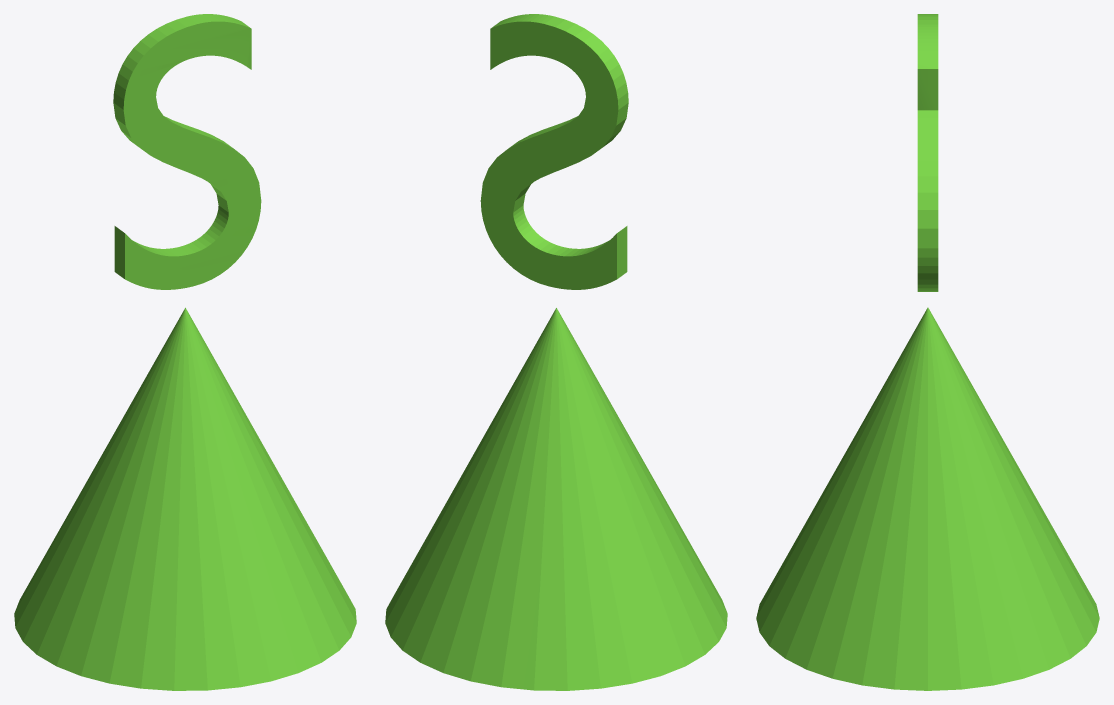
Rendered from SPoint.glb.
3 views of the same model, side by side, from view 1: azimuth 30°, elevation 25°; view 2: azimuth 150°, elevation 25°; view 3: azimuth 270°, elevation 25° (orthographic).
Parts seen in each view (by area): view 1: StartPoint; view 2: StartPoint; view 3: StartPoint.
Boxes of the visible parts, left/top/right/bottom form: StartPoint: left=14, top=14, right=356, bottom=690; StartPoint: left=385, top=14, right=727, bottom=690; StartPoint: left=756, top=14, right=1099, bottom=690.
Size of the model in its own units: 0.5 by 0.9589 by 0.5.
